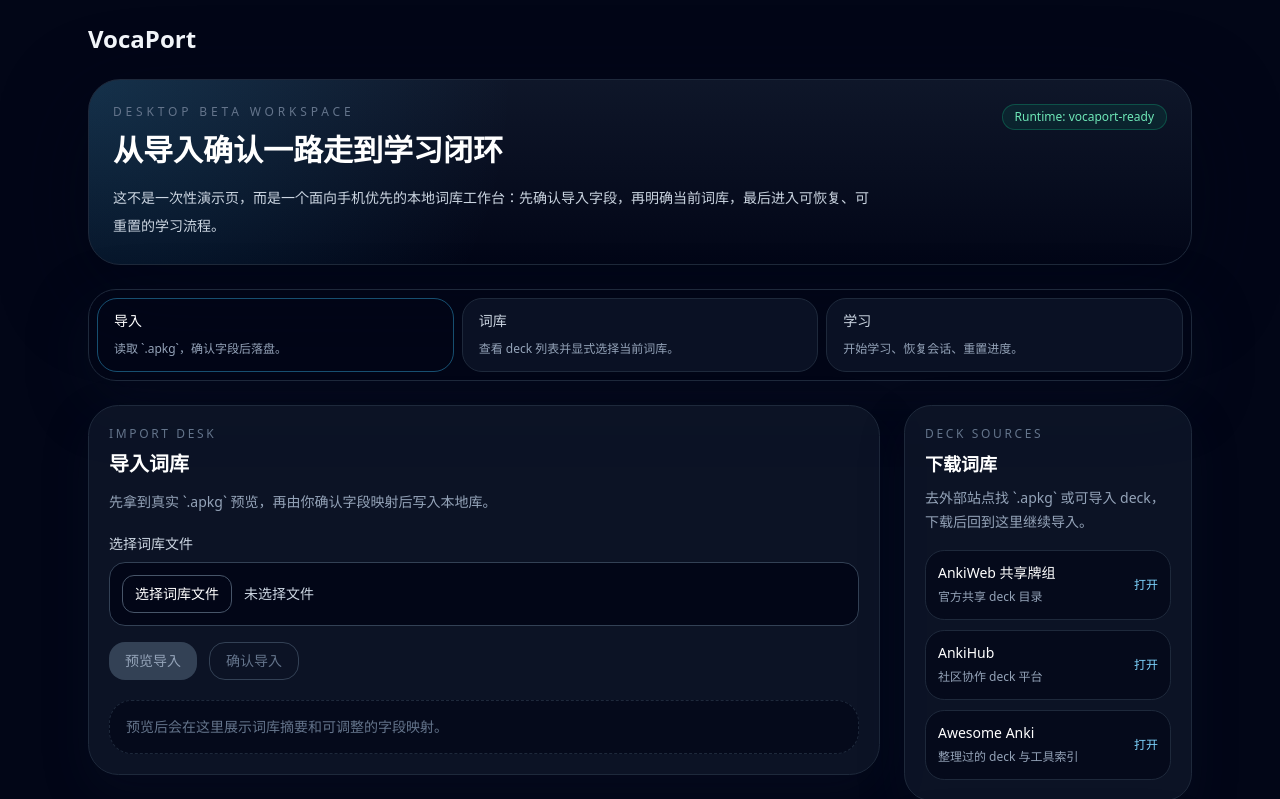
desktop app usability › surfaces refresh failures after a successful import without treating the commit as failed
The image size is (1280, 799).
Click the button "选择词库文件" at (177, 594), box [122,575,232,613]
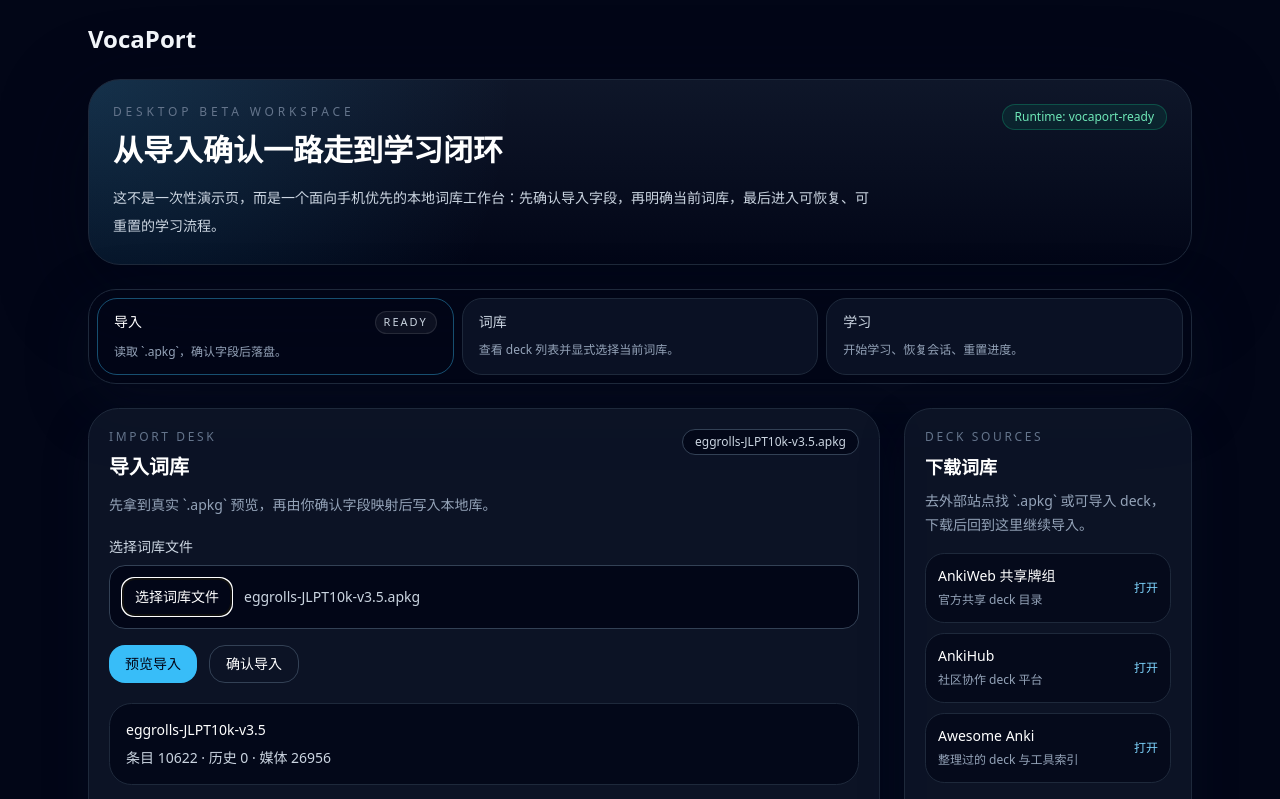
Click the button "确认导入" at (254, 664), box [209,644,299,682]
(page scrolled)
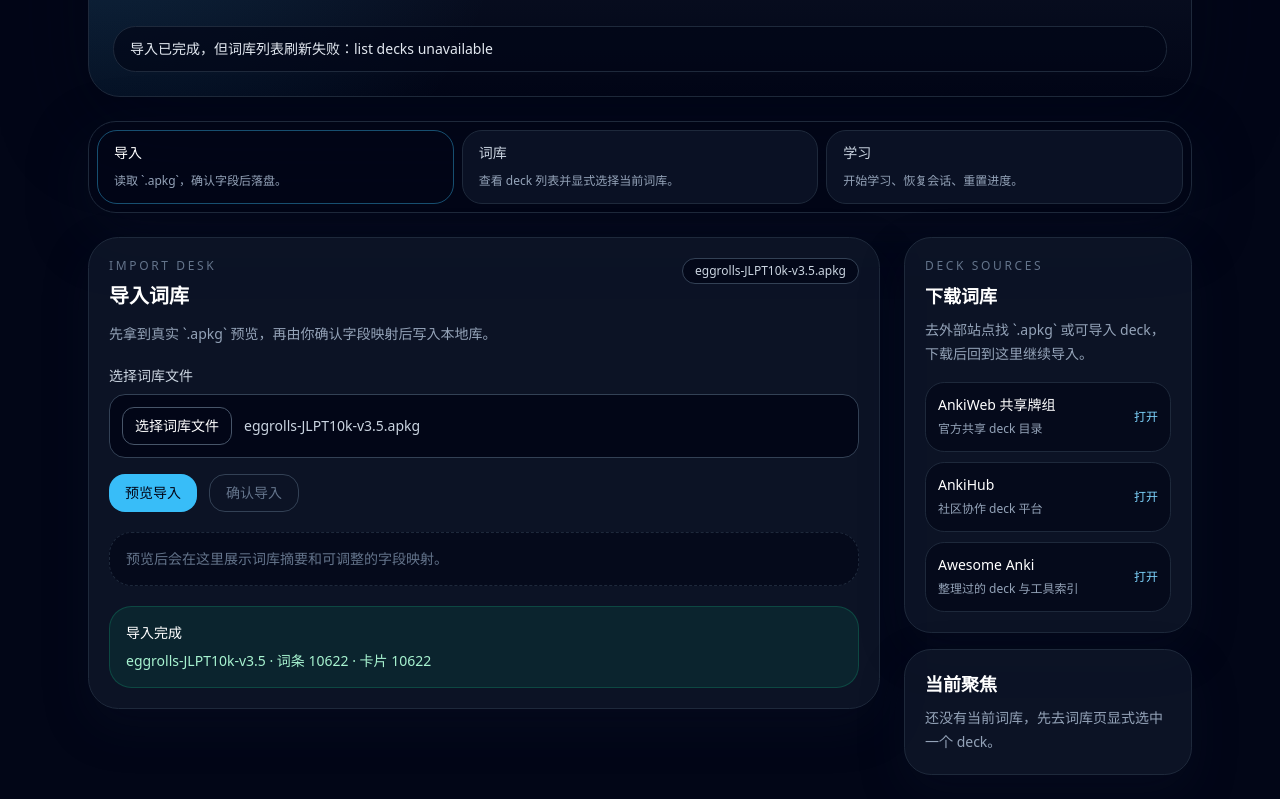
Now the text "导入已完成，但词库列表刷新失败：list decks unavailable" is shown, box [113,26,1167,72]
Now the text "导入完成" is shown, box [126,623,182,642]
Now the button "确认导入" is disabled, box [209,474,299,512]
